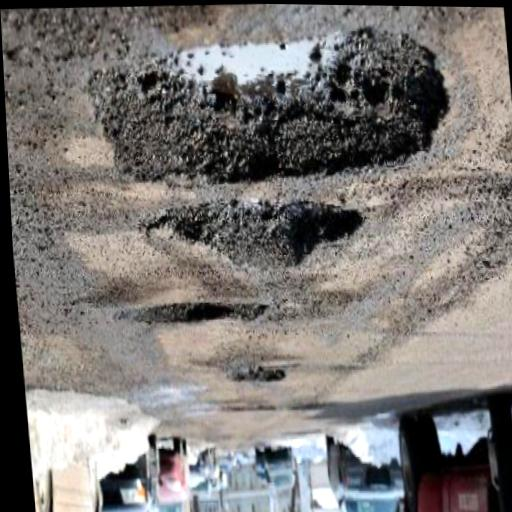pothole: (81, 20, 461, 197), (137, 191, 370, 281), (112, 299, 270, 332), (230, 365, 286, 389)
